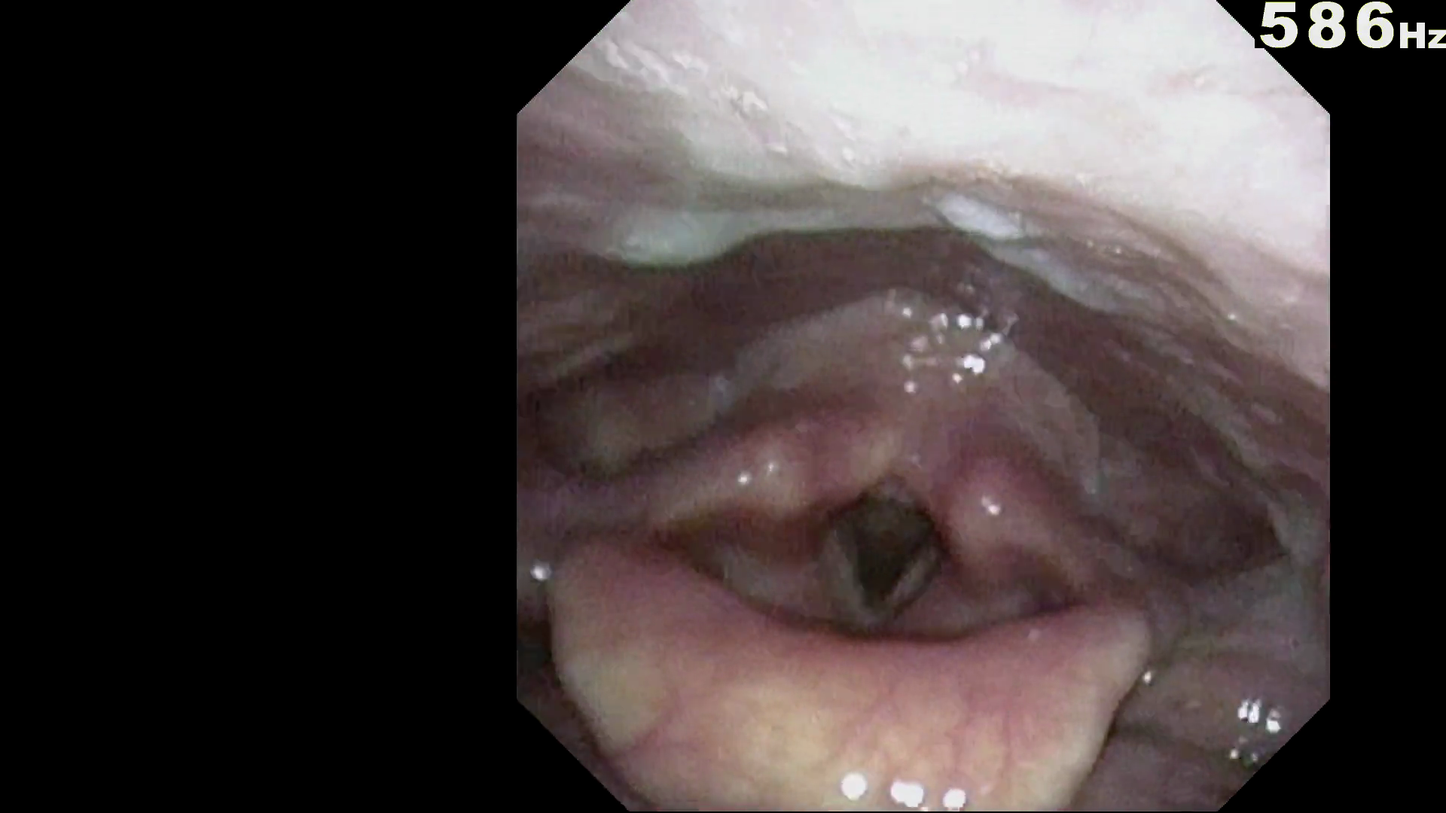epiglottis: (606, 609, 1167, 767)
trachea: (844, 482, 968, 622)
